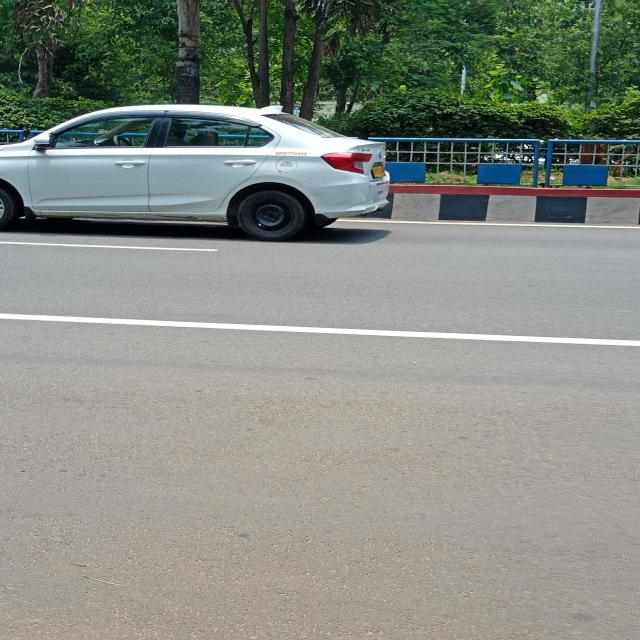car: (0, 84, 401, 250)
